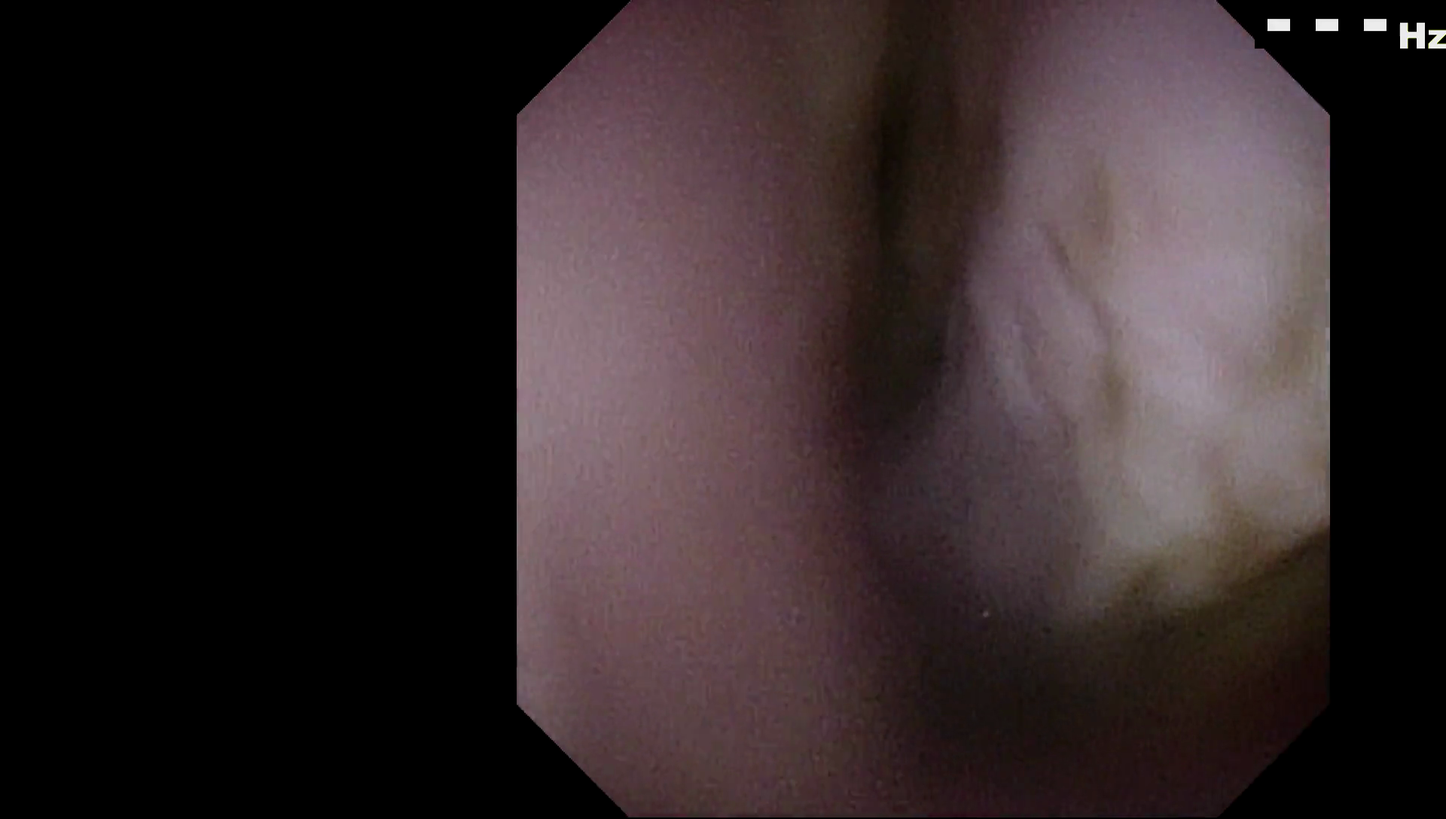close_wall: (524, 114, 842, 687)
next: (845, 513, 1132, 800), (836, 14, 989, 444)
